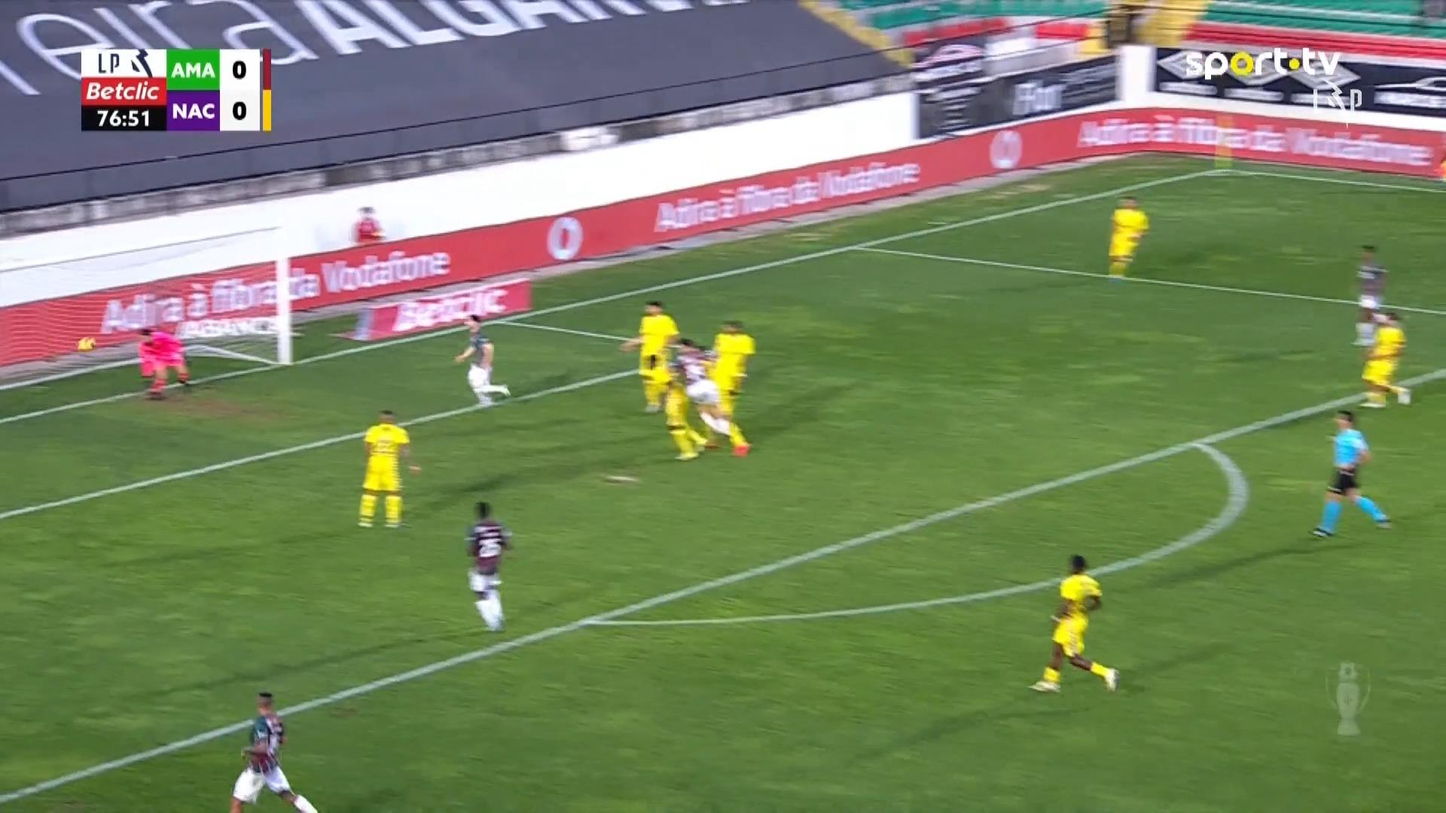ball: (77, 336, 95, 352)
goalkeeper: (136, 324, 192, 398)
player: (1028, 553, 1120, 694), (228, 690, 319, 811), (666, 337, 752, 458), (356, 409, 420, 528), (618, 299, 682, 414), (463, 500, 513, 632), (1356, 310, 1411, 409), (708, 318, 756, 428), (453, 314, 511, 405), (1351, 243, 1390, 346), (1106, 195, 1149, 278)
referee: (1309, 408, 1391, 538)
